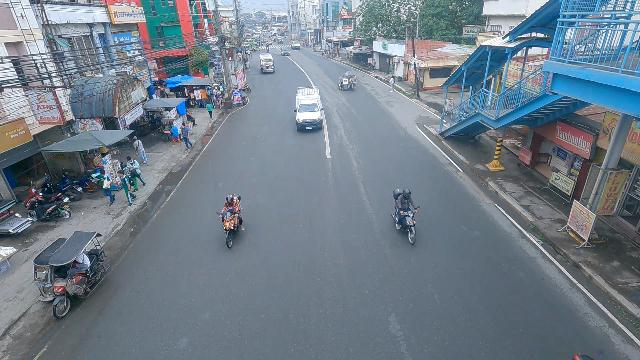car: (280, 47, 291, 56)
jeepney: (259, 53, 275, 74), (247, 41, 260, 52)
motorcycle: (390, 185, 421, 248), (216, 190, 246, 252), (266, 45, 270, 52)
truck: (291, 40, 300, 50)
van: (293, 85, 326, 134)
